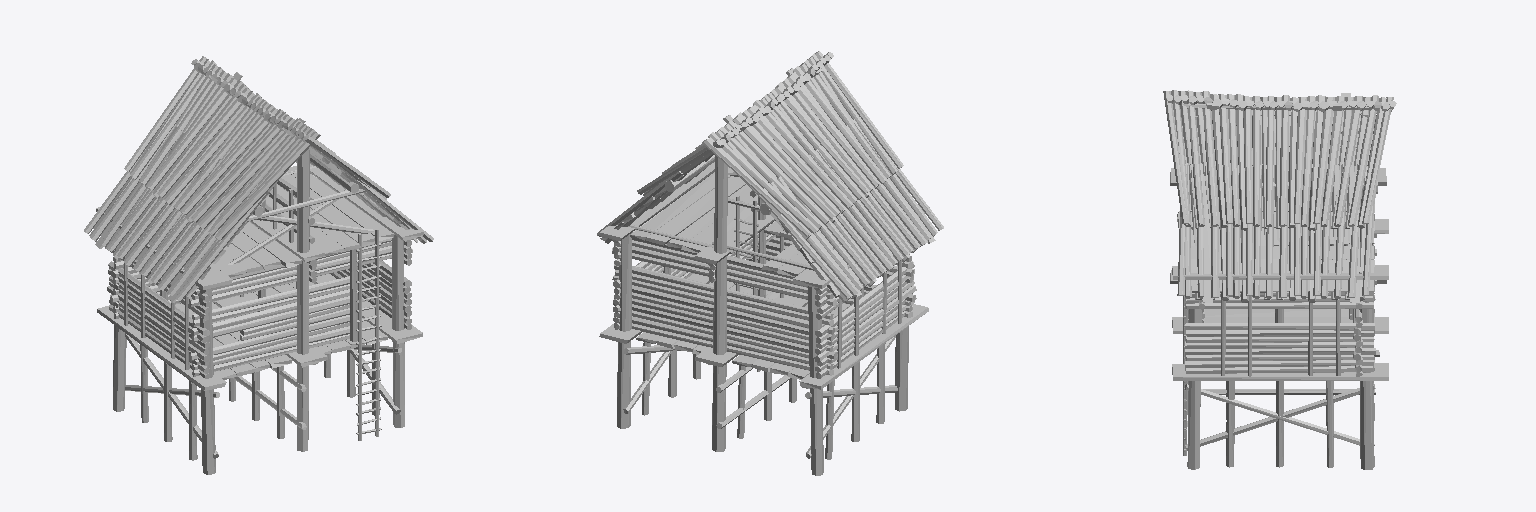
File: big_watchtower_LOD1.obj
3 views of the same model, side by side, from view 1: azimuth 30°, elevation 25°; view 2: azimuth 150°, elevation 25°; view 3: azimuth 270°, elevation 25° (orthographic).
Parts seen in each view (by area): view 1: barn.035_Cube.040, barn.025_Cube.042, barn.034_Cube.039; view 2: barn.035_Cube.040, barn.025_Cube.042, barn.032_Cube.041; view 3: barn.025_Cube.042, barn.035_Cube.040.
Boxes of the visible parts, x1=… form: barn.035_Cube.040: x1=93, y1=72, x2=423, y2=474; barn.025_Cube.042: x1=84, y1=56, x2=433, y2=301; barn.034_Cube.039: x1=356, y1=229, x2=381, y2=440; barn.035_Cube.040: x1=599, y1=68, x2=935, y2=475; barn.025_Cube.042: x1=597, y1=51, x2=943, y2=302; barn.032_Cube.041: x1=734, y1=195, x2=758, y2=295; barn.025_Cube.042: x1=1163, y1=90, x2=1396, y2=302; barn.035_Cube.040: x1=1170, y1=93, x2=1388, y2=469.
Size of the model in its own units: 31.15 by 37.95 by 24.57.